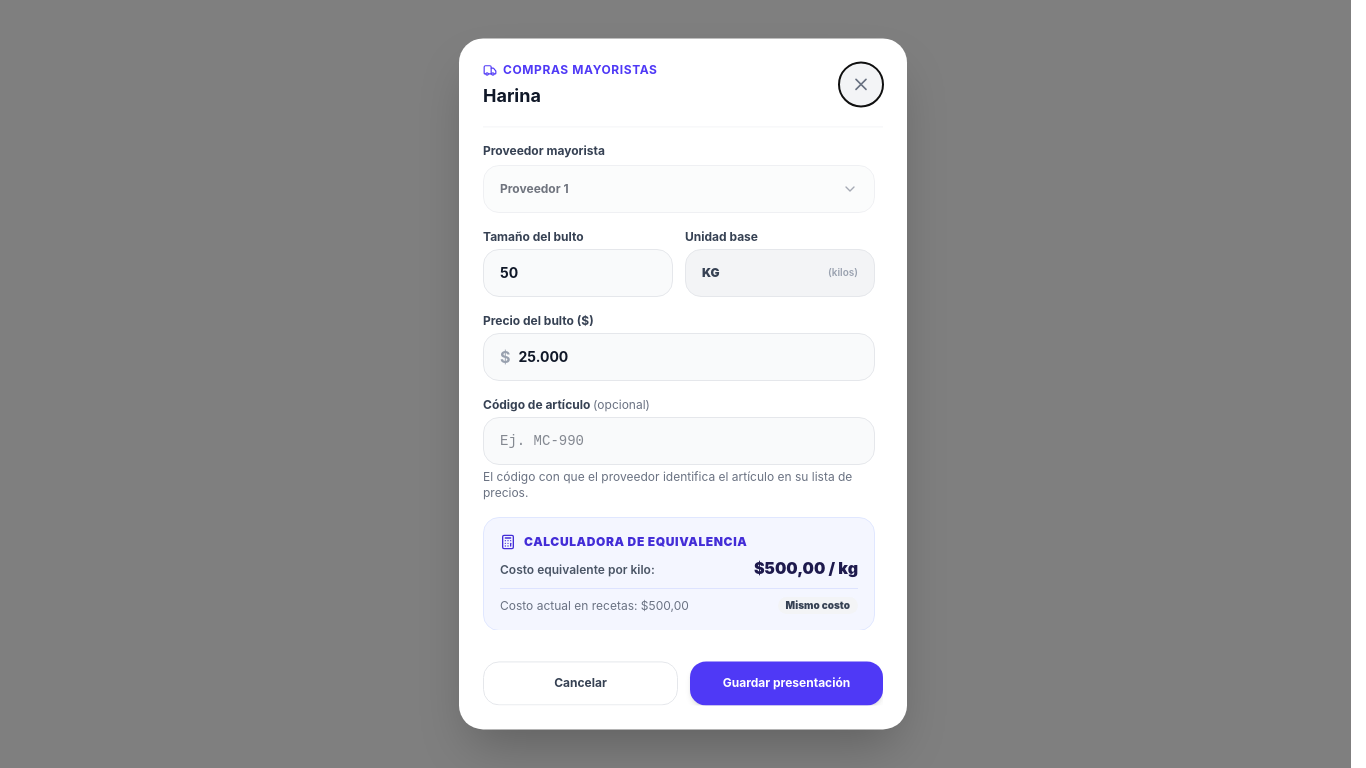
Test: SupplierPackagingModal › muestra error si se intenta quitar el predeterminado sin reemplazo
The image size is (1366, 768).
Earlier steps of the test are not shown.
Step 1. Click the button "Guardar presentación" → click(786, 684), box left=690, top=662, right=883, bottom=706
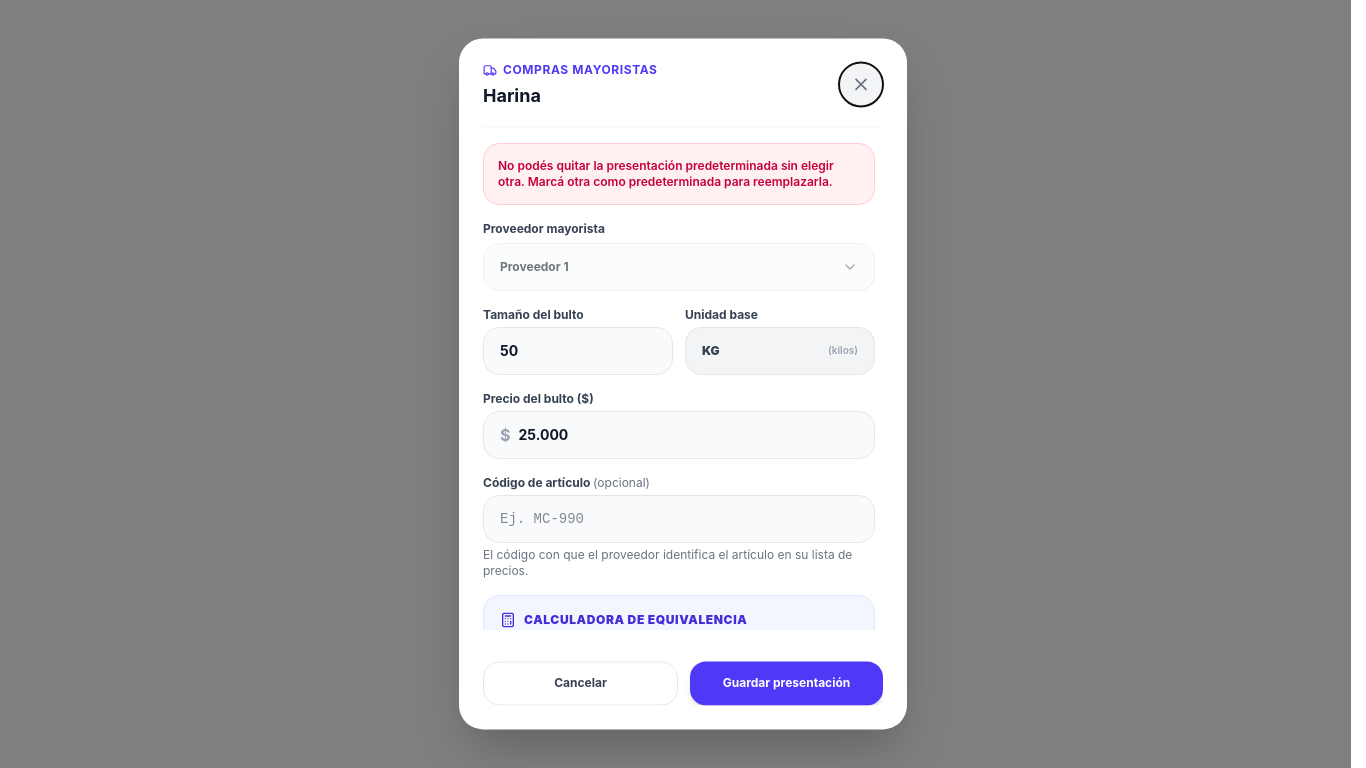
Now the text "No podés quitar la presentación predeterminada sin elegir otra" is shown, box left=498, top=158, right=834, bottom=189
